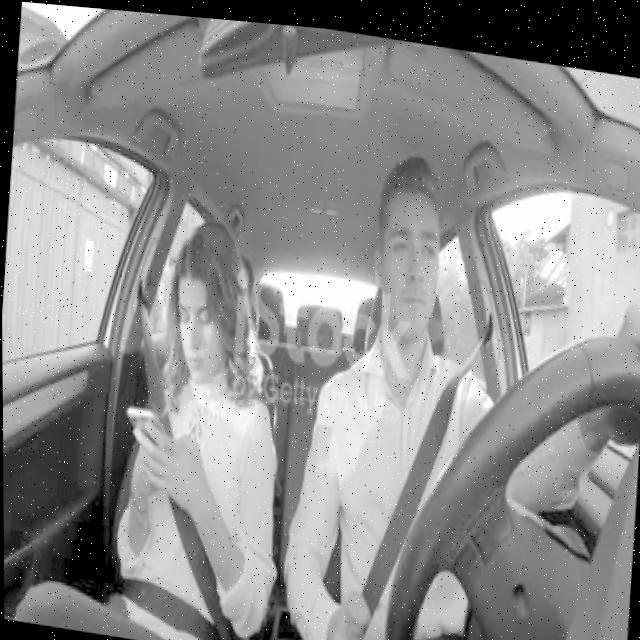PhoneCall: (122, 398, 172, 456)
